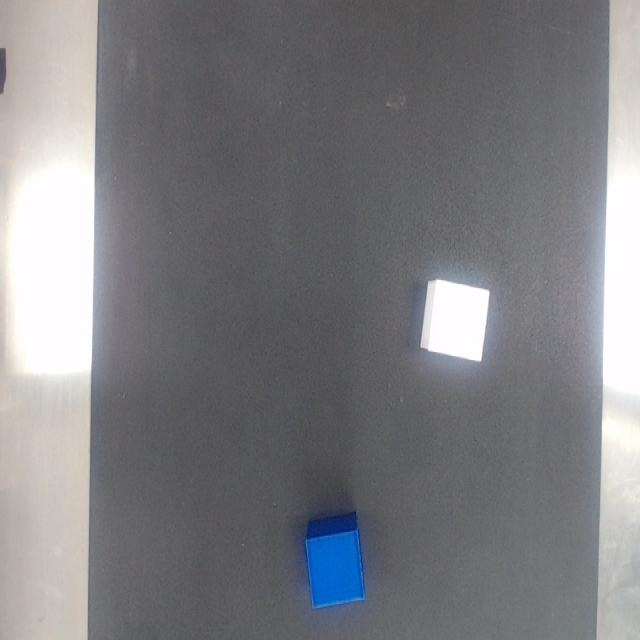Azul: (305, 512, 364, 608)
Blanco: (420, 280, 489, 360)
